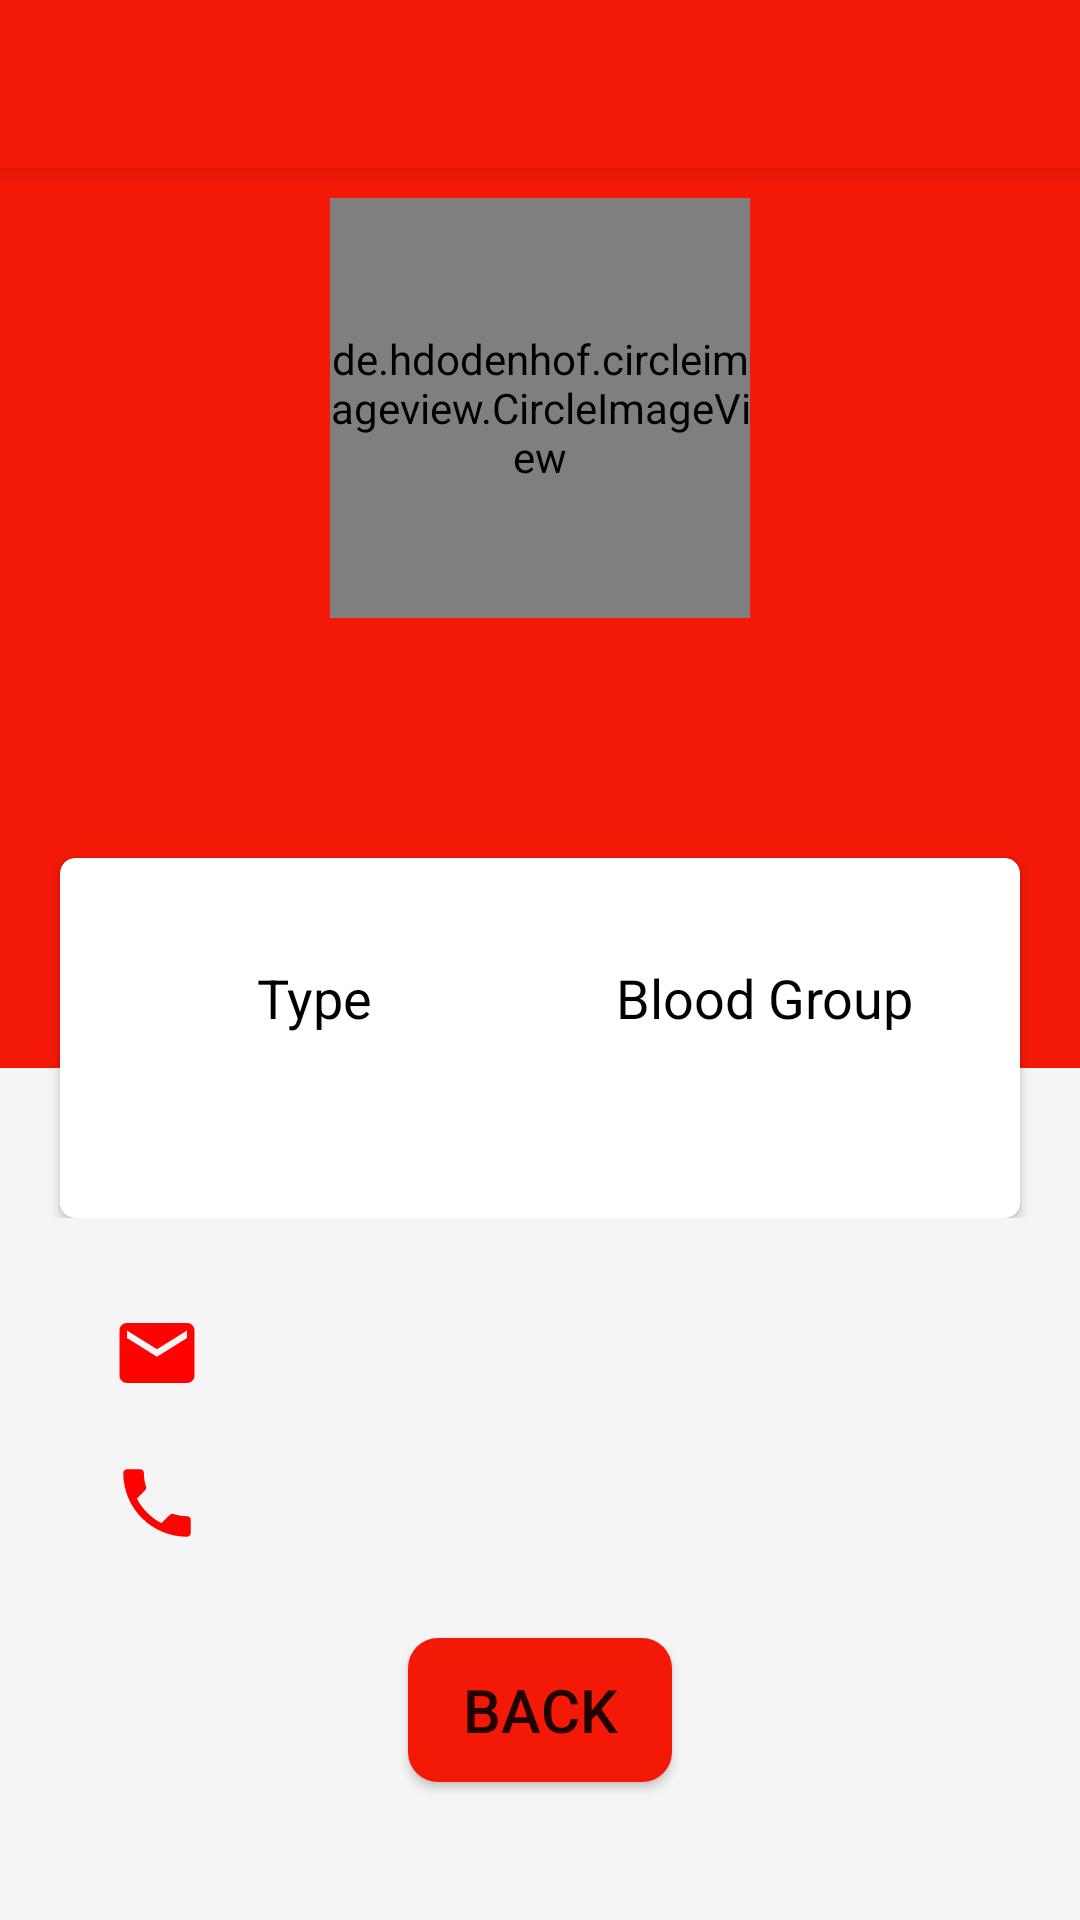

Icons on this 1080px×1920px Android screen, each with the point to tap as point (x, y):
email: point (157, 1353)
phone: point (157, 1503)
